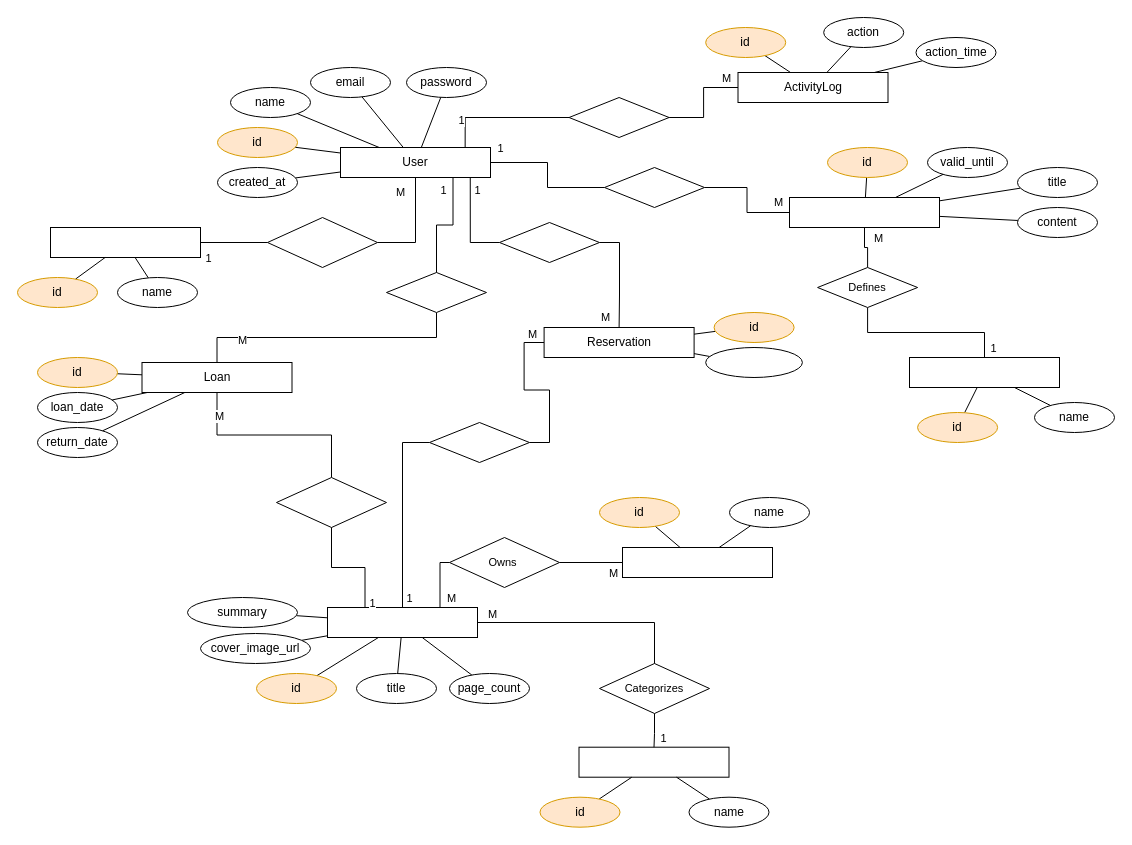
Some shapes in this 1132 by 845 pixel diagram are drawn without their labels. Each missing label, with the centre of its shape:
Assigns: (322,242)
Author: (697,562)
Book: (402,622)
Borrows: (436,292)
Contains: (331,502)
Genre: (653,761)
Makes: (549,242)
Notification: (864,212)
Receives: (654,187)
Records: (618,117)
reserved_until: (753,362)
Reserves: (479,442)
Role: (125,242)
TargetType: (984,372)
